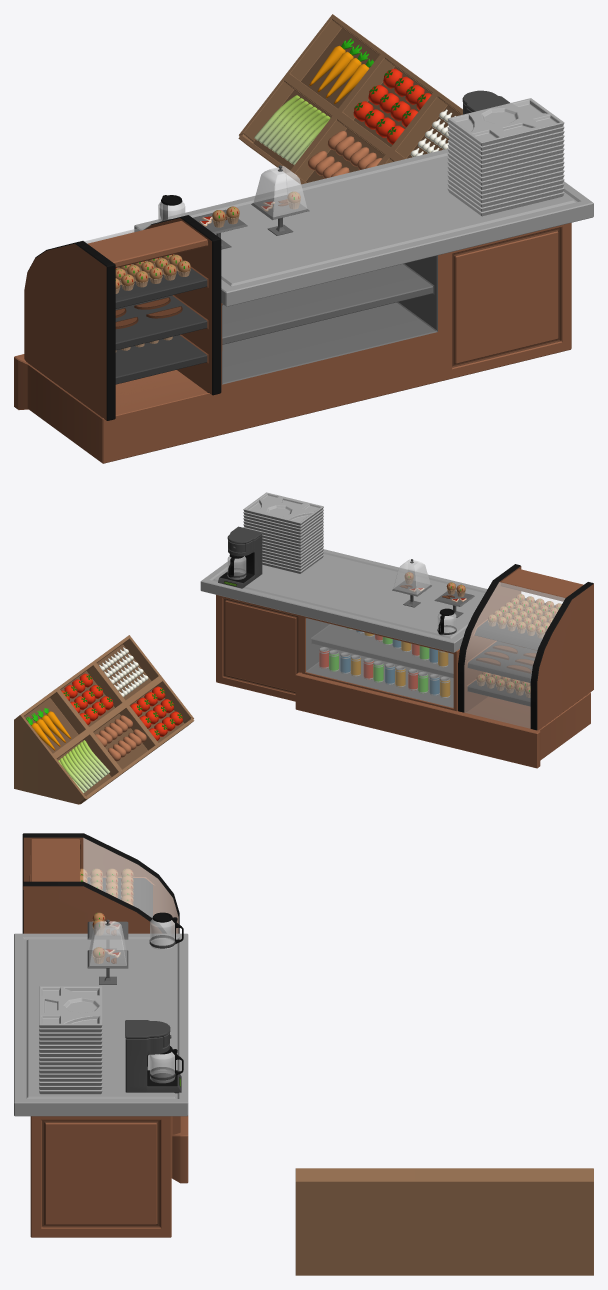
File: cafeteria.fbx
The picture shows the model from 3 angles, top to bottom: view 1: azimuth 30°, elevation 25°; view 2: azimuth 150°, elevation 25°; view 3: azimuth 270°, elevation 25°; orthographic projection. The views are drawn at different scales.
Parts seen in each view (by area): view 1: Object_68, Object_66, Object_98, Object_53, Object_61, Object_16, Object_51, Object_57, Object_25, Object_63, Object_14, Object_41 (+1 smaller); view 2: Object_68, Object_66, Object_70, Object_72, Object_98, Object_106, Object_63, Object_25, Object_55, Object_61, Object_53, Object_57 (+8 smaller); view 3: Object_68, Object_66, Object_98, Object_63, Object_70, Object_16, Object_64, Object_25, Object_14.
Boxes of the visible parts, x1,y1,x2,y2 form: Object_68: (14, 148, 593, 463); Object_66: (238, 14, 462, 184); Object_98: (447, 98, 564, 216); Object_53: (353, 68, 431, 144); Object_61: (254, 95, 330, 164); Object_16: (253, 166, 307, 217); Object_51: (309, 38, 373, 103); Object_57: (308, 131, 381, 178); Object_25: (115, 254, 190, 293); Object_63: (160, 90, 509, 221); Object_14: (251, 194, 309, 235); Object_41: (115, 297, 182, 329); Object_68: (200, 549, 593, 768); Object_66: (14, 635, 194, 804); Object_70: (464, 582, 565, 728); Object_72: (306, 618, 453, 707); Object_98: (243, 492, 323, 573); Object_106: (319, 647, 450, 697); Object_63: (218, 526, 456, 634); Object_25: (487, 594, 561, 638); Object_55: (130, 686, 182, 740); Object_61: (58, 740, 109, 793); Object_53: (61, 673, 113, 724); Object_57: (95, 715, 146, 761); Object_68: (14, 833, 188, 1237); Object_66: (295, 1168, 593, 1275); Object_98: (39, 986, 102, 1094); Object_63: (125, 912, 183, 1093); Object_70: (83, 838, 178, 933); Object_16: (89, 921, 126, 965); Object_64: (150, 919, 175, 1083); Object_25: (80, 868, 133, 905); Object_14: (87, 950, 128, 984).
Size of the model in its own units: 422 by 172 by 414.
Materials: 3 (2 with a texture image).
